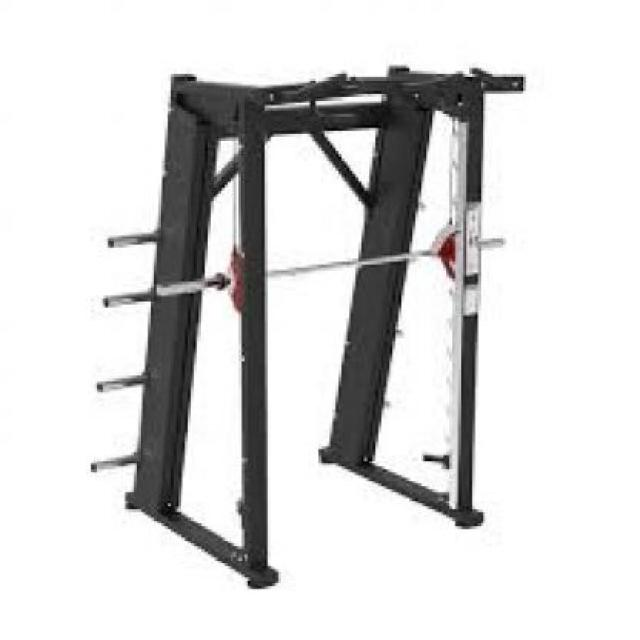smith machine: (92, 62, 526, 592)
